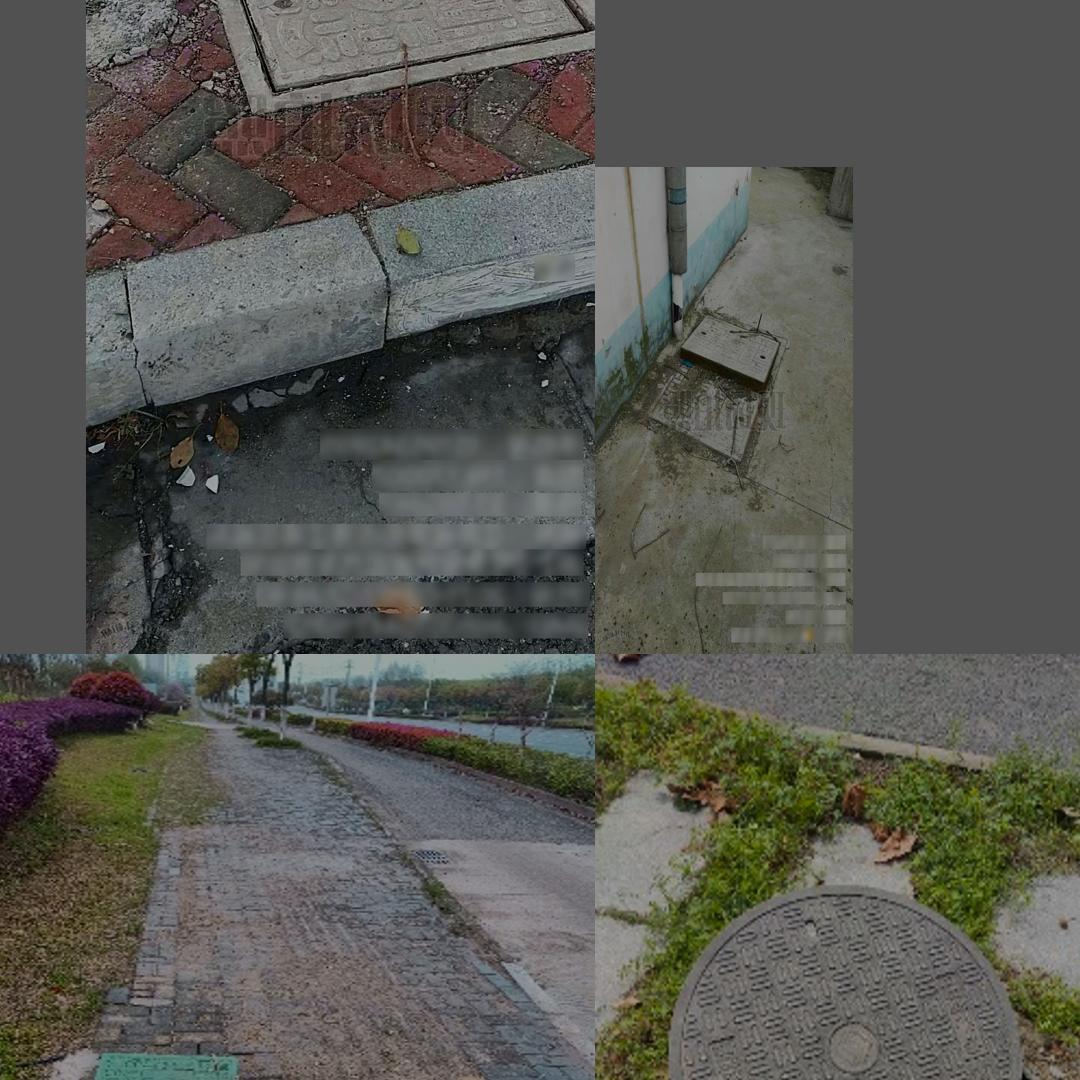uncovered: (668, 884, 1080, 1080), (188, 0, 525, 102), (653, 329, 783, 433), (44, 1032, 271, 1080)
